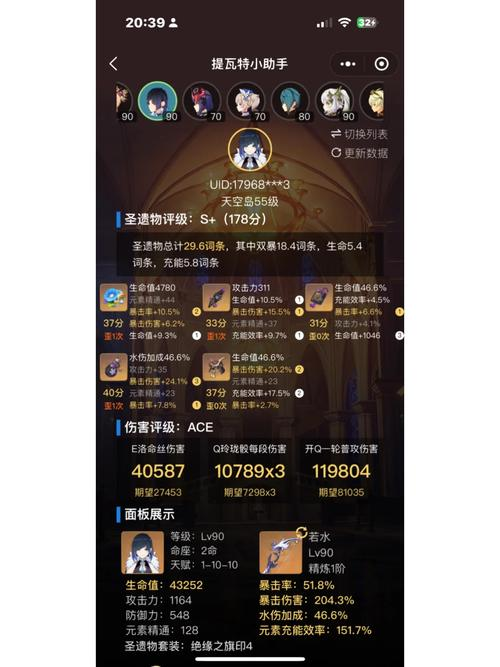夜兰: (120, 534, 162, 576), (233, 131, 268, 167), (142, 89, 173, 119)
